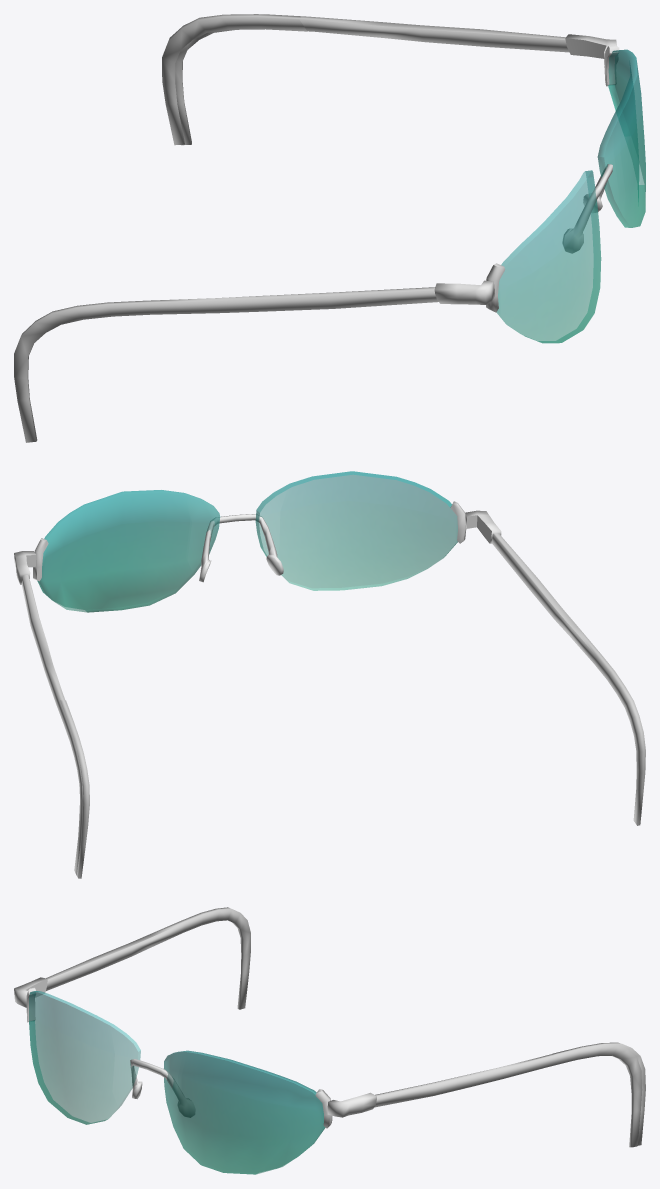
The model's file is sunglass.glb.
3 views of the same model, one above another, from view 1: azimuth 30°, elevation 25°; view 2: azimuth 150°, elevation 25°; view 3: azimuth 270°, elevation 25° (orthographic). The views are drawn at different scales.
Parts seen in each view (by area): view 1: Wolf3D_Glasses_3; view 2: Wolf3D_Glasses_3; view 3: Wolf3D_Glasses_3.
Part boxes in pixels (bbox=[...]): Wolf3D_Glasses_3: bbox=[14, 14, 645, 442]; Wolf3D_Glasses_3: bbox=[14, 471, 645, 878]; Wolf3D_Glasses_3: bbox=[14, 907, 645, 1174].
Size of the model in its own units: 0.6133 by 0.2016 by 0.6265.
1 material, 1 textured.
